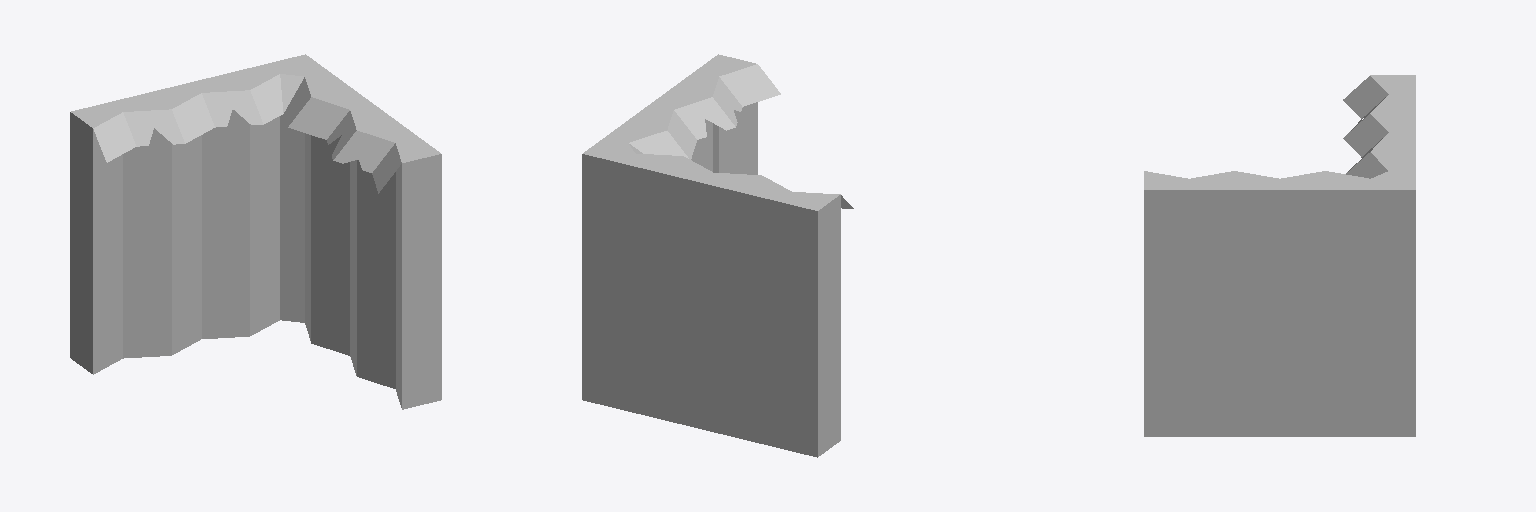
The model's file is cliff_cornerInnerTop_rock.obj.
3 views of the same model, side by side, from view 1: azimuth 30°, elevation 25°; view 2: azimuth 150°, elevation 25°; view 3: azimuth 270°, elevation 25° (orthographic).
Parts seen in each view (by area): view 1: cliff_cornerInnerTop_rock; view 2: cliff_cornerInnerTop_rock; view 3: cliff_cornerInnerTop_rock.
Part boxes in pixels (bbox=[...]): cliff_cornerInnerTop_rock: bbox=[70, 54, 441, 409]; cliff_cornerInnerTop_rock: bbox=[582, 54, 853, 457]; cliff_cornerInnerTop_rock: bbox=[1144, 75, 1415, 436].
Size of the model in its own units: 1 by 1 by 1.